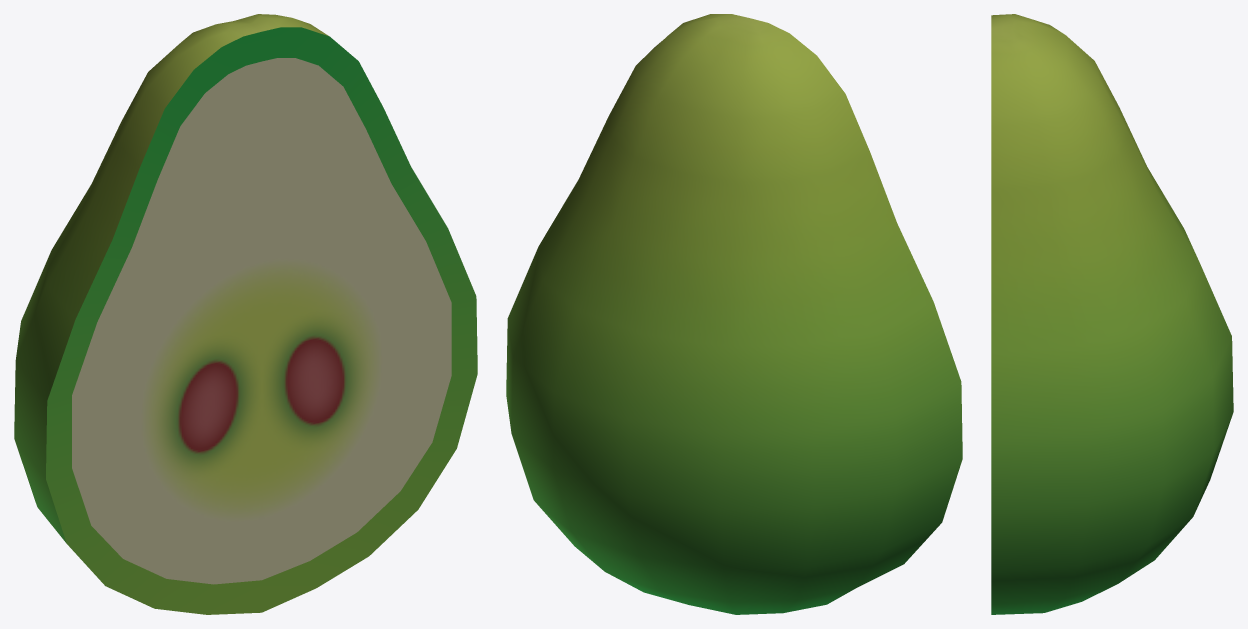
File: Pear_piece.glb
3 views of the same model, side by side, from view 1: azimuth 30°, elevation 25°; view 2: azimuth 150°, elevation 25°; view 3: azimuth 270°, elevation 25° (orthographic). The views are drawn at different scales.
Visible parts, largest first — view 1: geometry_0; view 2: geometry_0; view 3: geometry_0.
Boxes of the visible parts, bbox=[...] form: geometry_0: bbox=[14, 14, 477, 614]; geometry_0: bbox=[506, 14, 962, 614]; geometry_0: bbox=[991, 14, 1233, 614].
Size of the model in its own units: 0.2503 by 0.3218 by 0.1252.
Materials: 1 (1 with a texture image).
